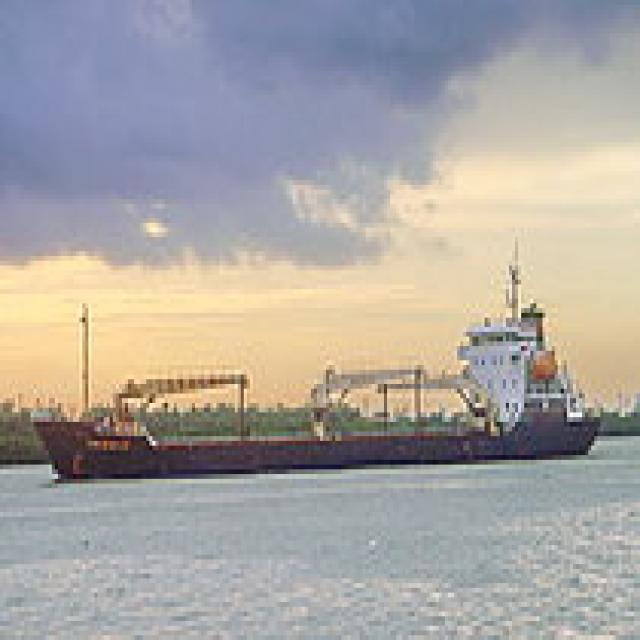Cargo: (24, 227, 600, 483)
